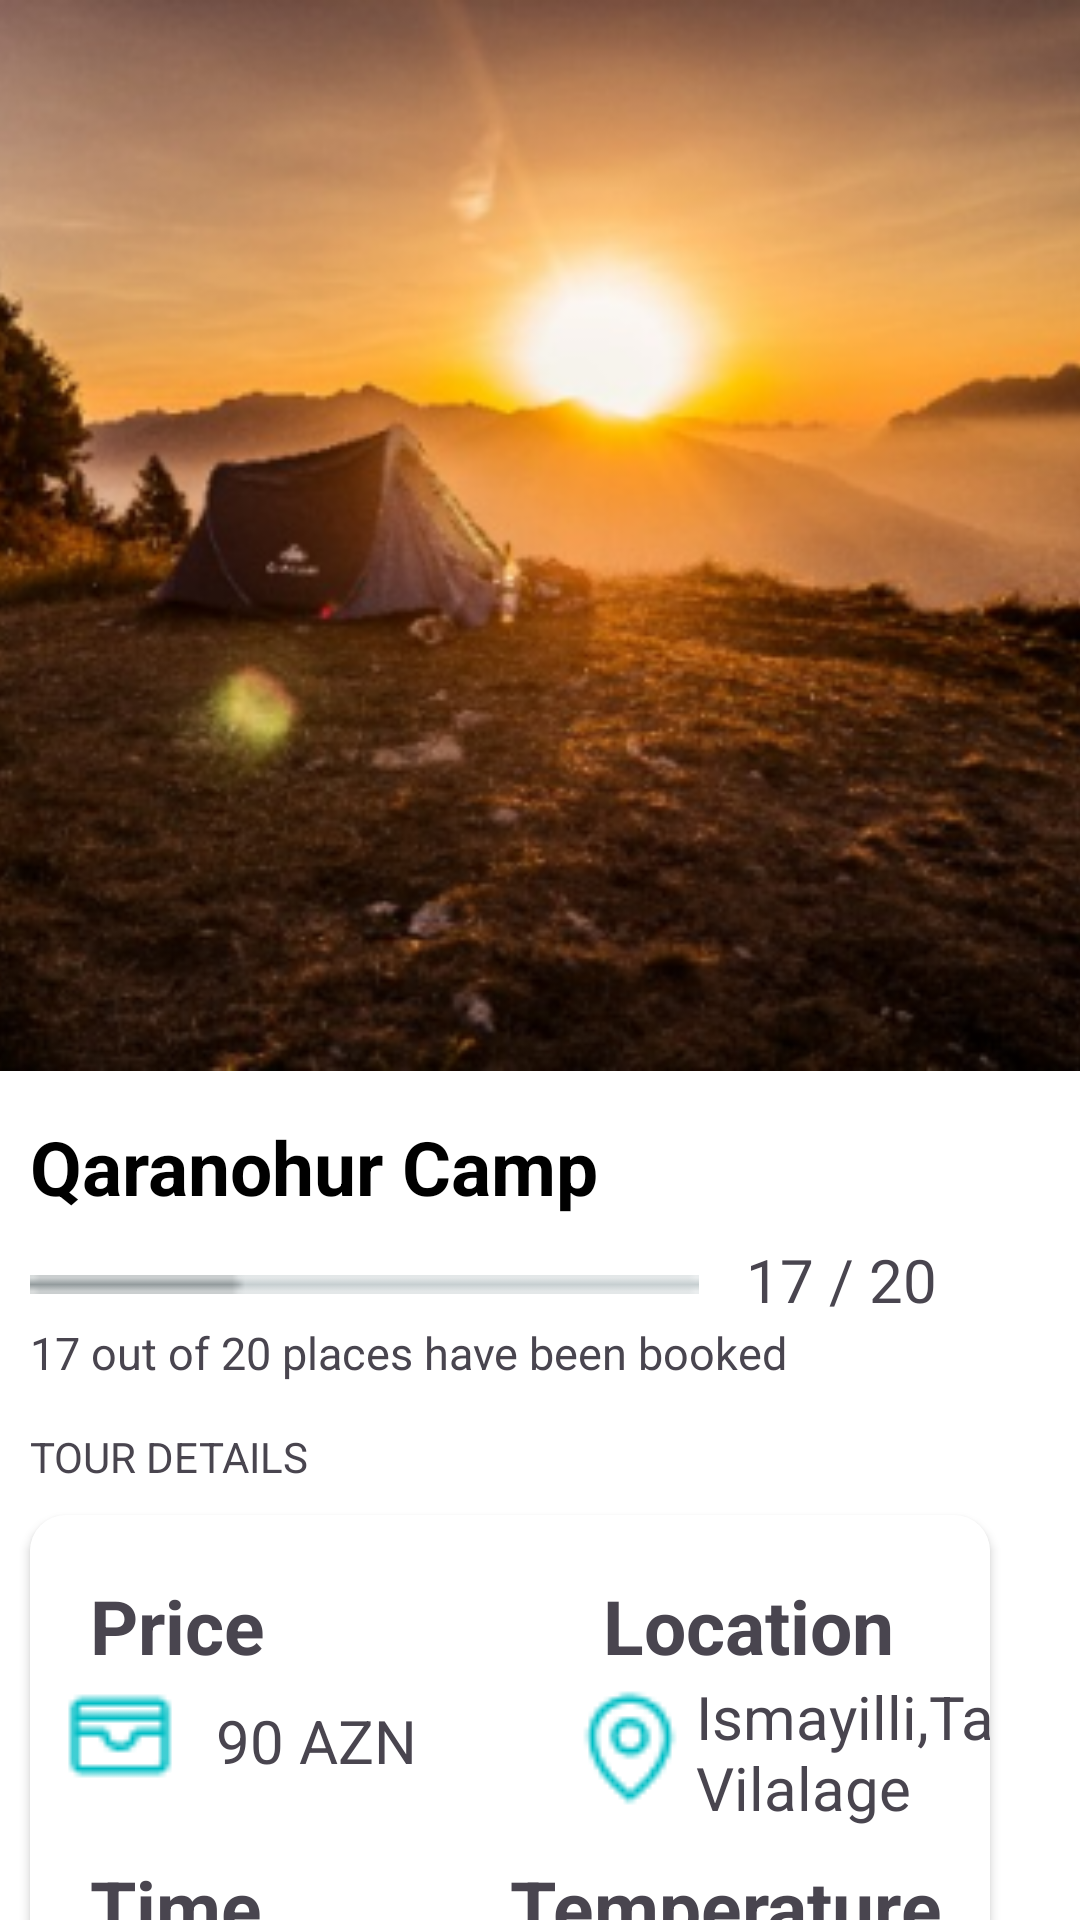

Icon click points for this 1080×1920 phone screenshot, format (x,y):
map: (630,1747)
